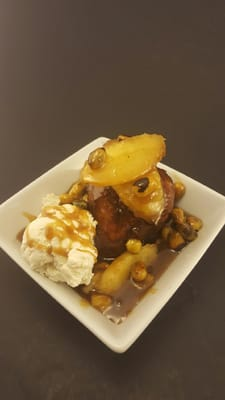sushi: (2, 130, 223, 354)
